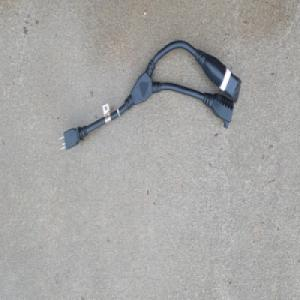Wire: (57, 38, 242, 153)
